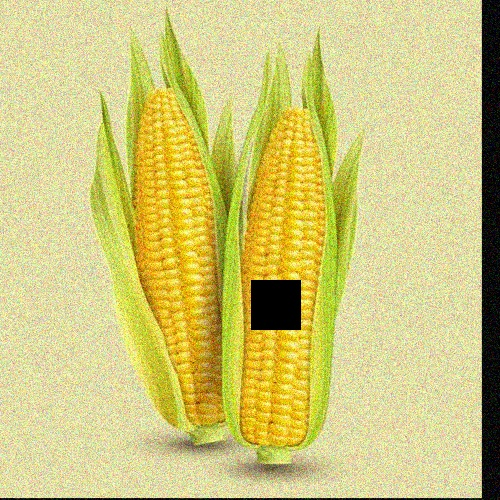corn: (120, 49, 240, 450), (225, 73, 340, 462)
